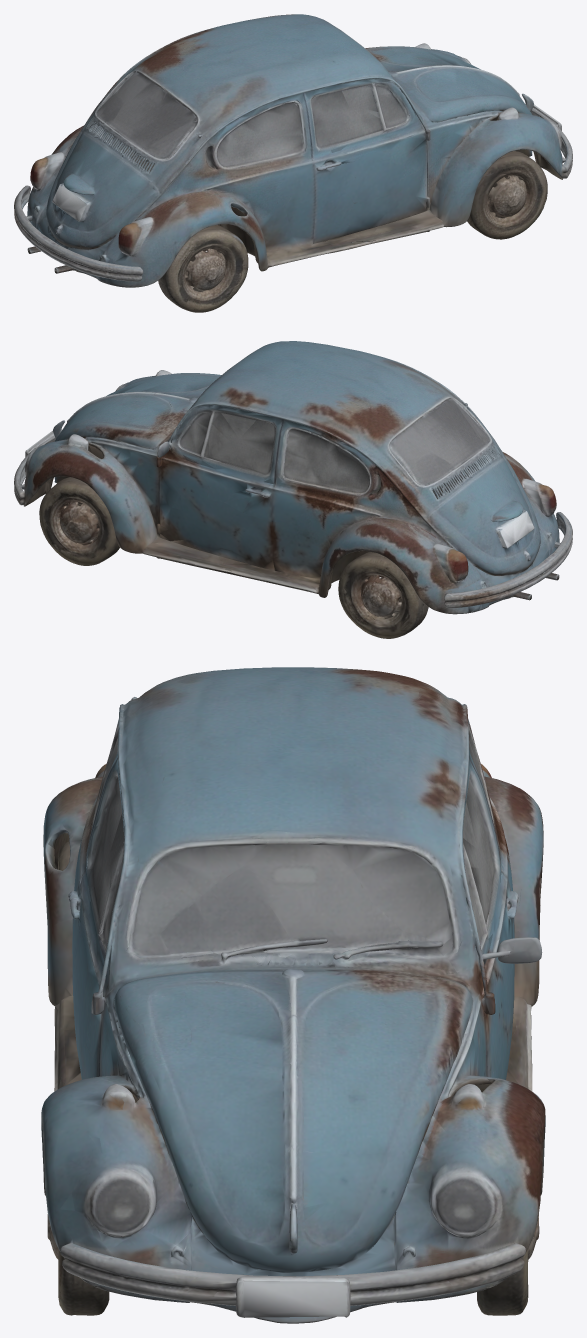
The model's file is besouro-abandonado__01a16c1c.glb.
3 views of the same model, one above another, from view 1: azimuth 30°, elevation 25°; view 2: azimuth 150°, elevation 25°; view 3: azimuth 270°, elevation 25° (orthographic). The views are drawn at different scales.
Visible parts, largest first — view 1: besouro-abandonado; view 2: besouro-abandonado; view 3: besouro-abandonado.
Part boxes in pixels (x1,y1,x2,y2): besouro-abandonado: (14,14,572,312); besouro-abandonado: (14,341,572,638); besouro-abandonado: (41,667,545,1323).
Bounding box in the file's own units: 4.08 × 1.53 × 1.75.
1 material, 1 textured.
